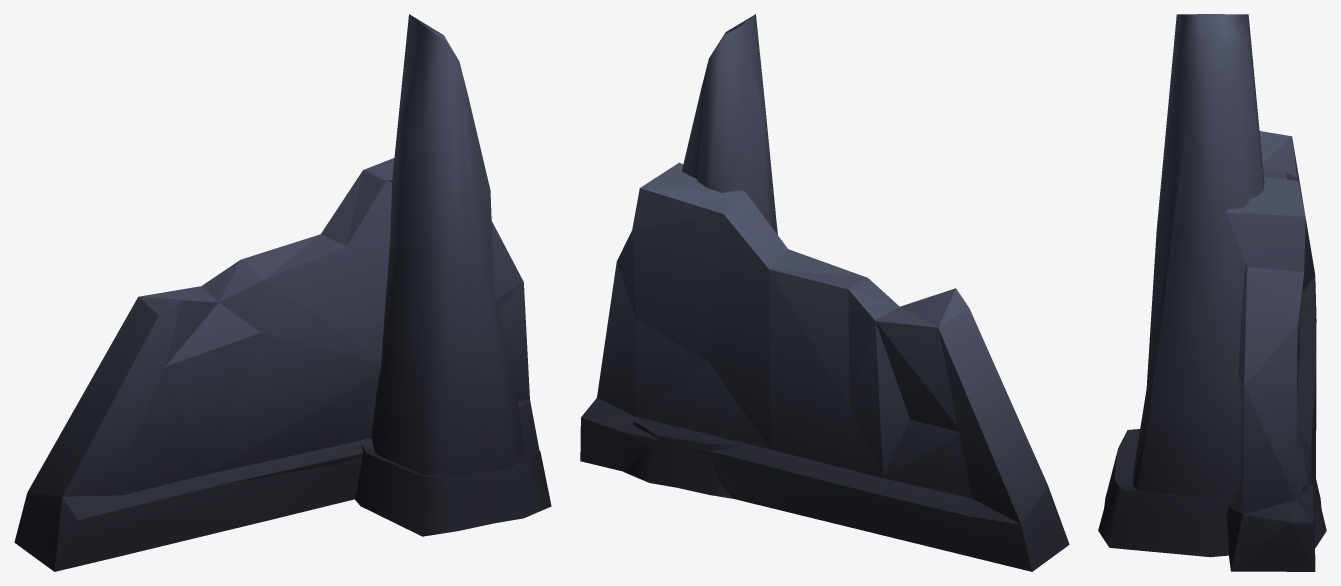
Rendered from SM_Ruined_Walls_1.fbx.
3 renders of one model, left to right at view 1: azimuth 30°, elevation 25°; view 2: azimuth 150°, elevation 25°; view 3: azimuth 270°, elevation 25°, orthographic. The views are drawn at different scales.
Visible parts, largest first — view 1: Ruined_Walls_1; view 2: Ruined_Walls_1; view 3: Ruined_Walls_1.
Boxes of the visible parts, <box> form: Ruined_Walls_1: <box>14,14,551,571</box>; Ruined_Walls_1: <box>580,14,1069,571</box>; Ruined_Walls_1: <box>1098,14,1326,571</box>.
Bounding box in the file's own units: 441 × 400 × 168.
Materials: 1 (1 with a texture image).
